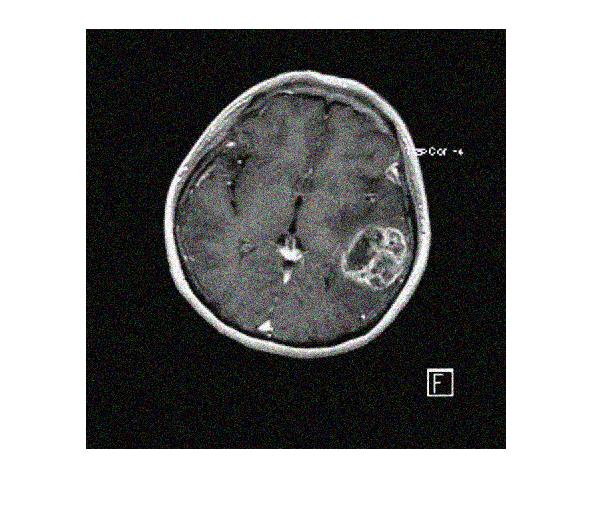Brain_Cancer: (340, 222, 407, 294)
